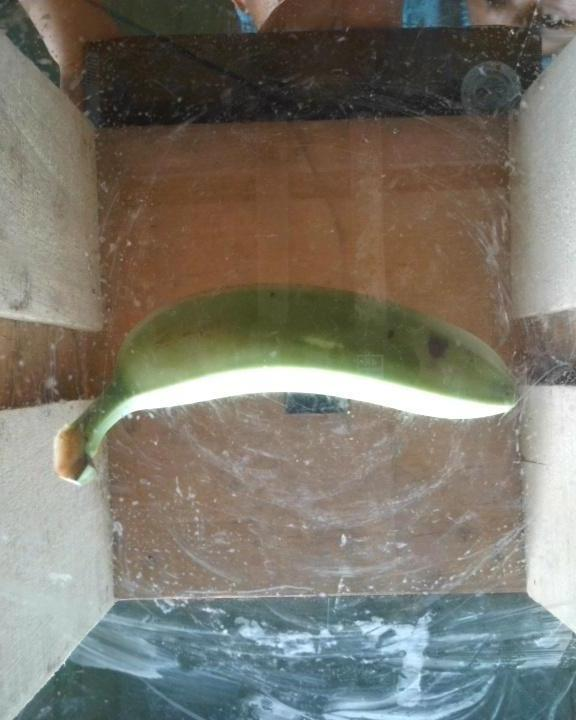CLASS B: (48, 274, 532, 494)
Class A: (424, 327, 459, 371)
